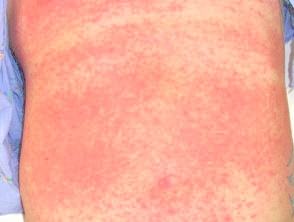SJS-TEN: (8, 0, 294, 221)
